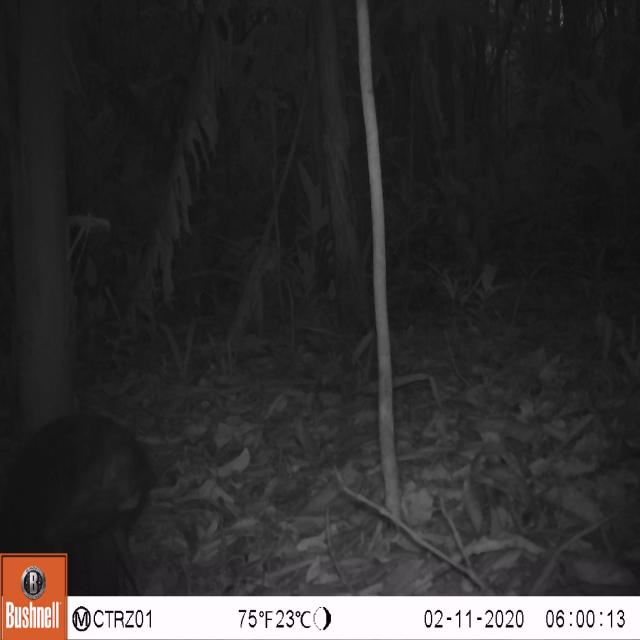Black Agouti: (0, 397, 159, 597)
